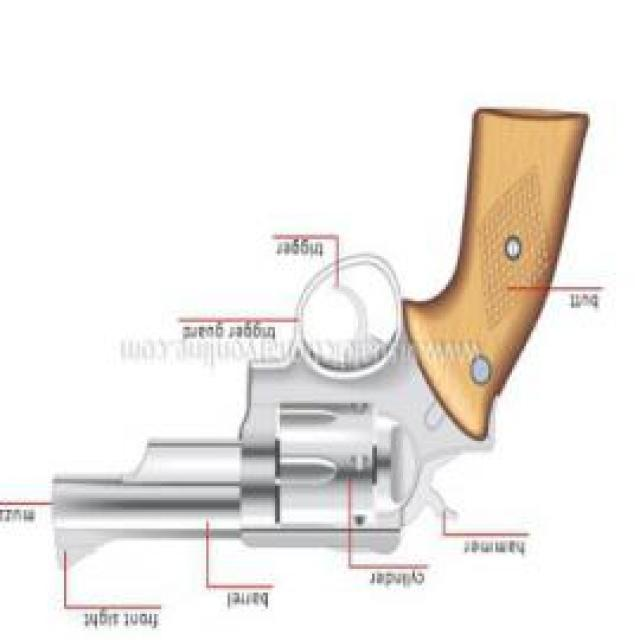pistol: (50, 107, 590, 571)
